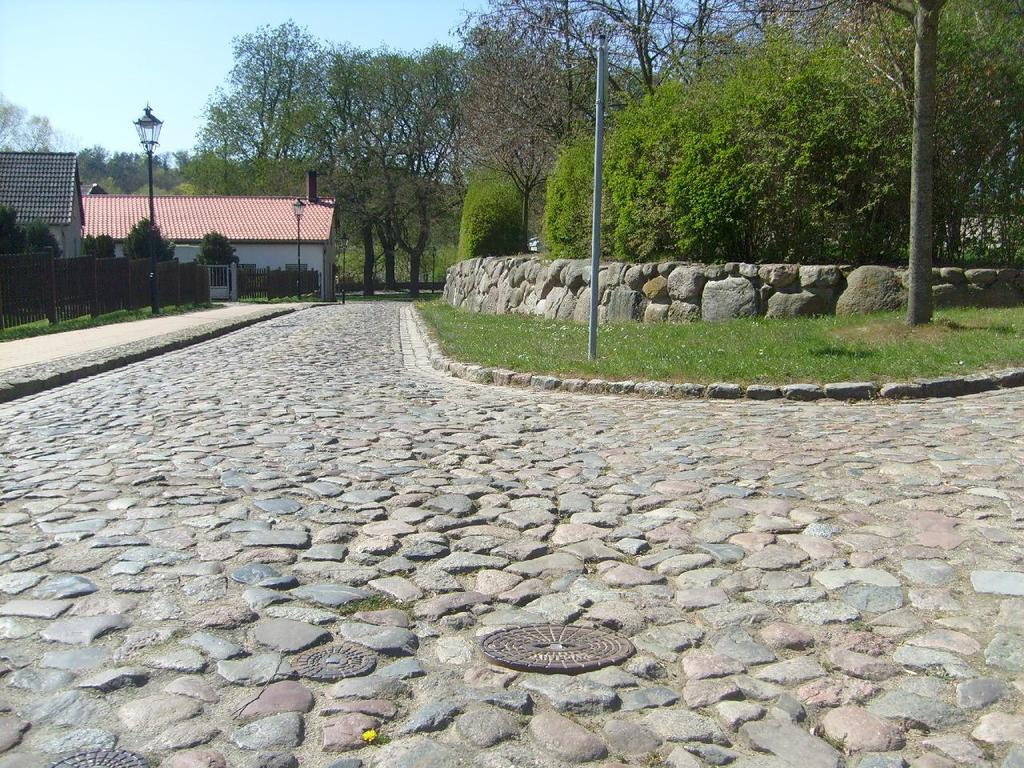Tree: (746, 0, 1023, 322), (594, 18, 925, 277), (195, 24, 483, 301), (71, 149, 423, 273), (440, 34, 576, 240), (0, 96, 61, 157)
